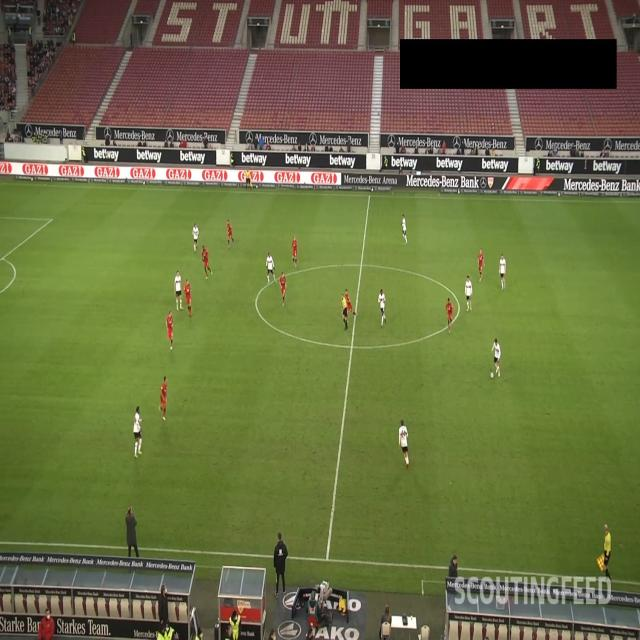ball: (490, 371, 495, 380)
